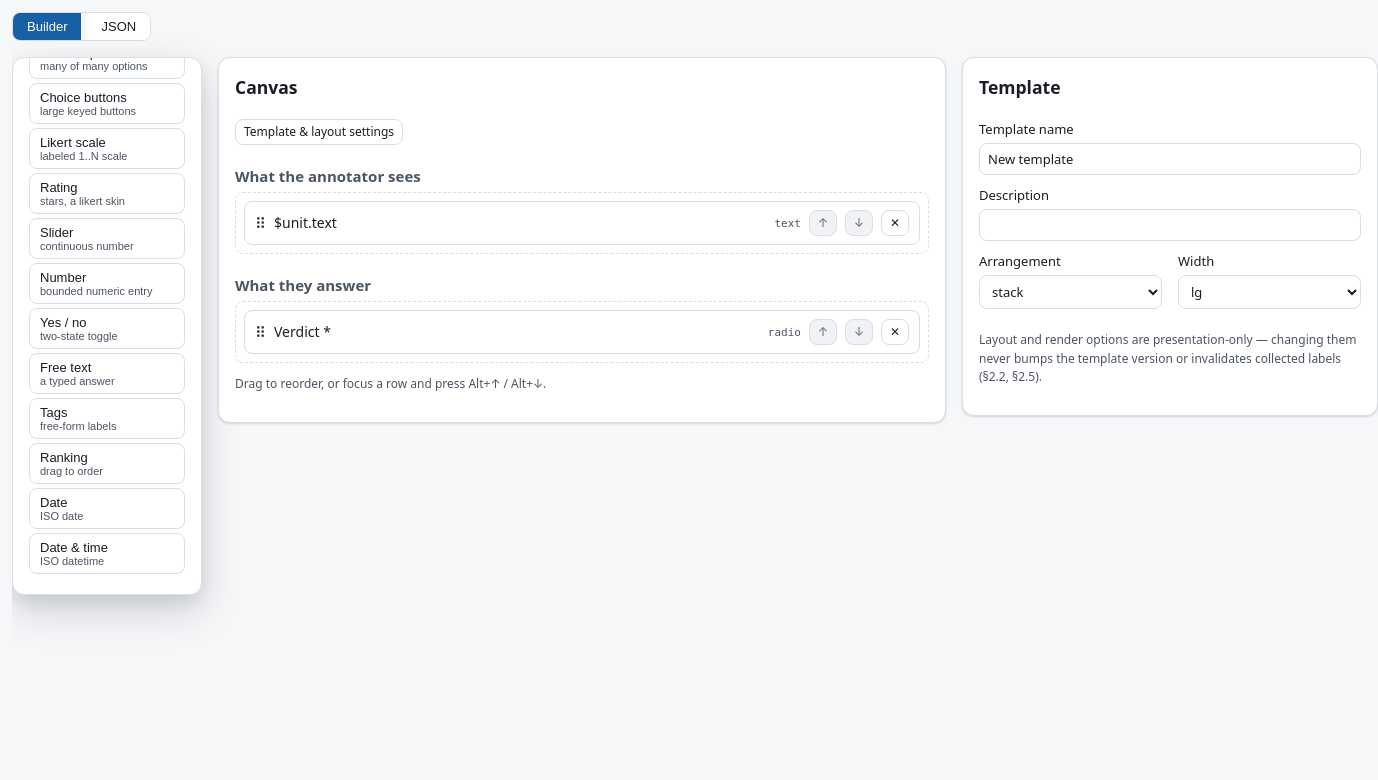
Test case: drag-and-drop reordering › cannot move the first row up or the last row down
(page scrolled)
Click the button with test id "palette-tags" at (107, 419), box [29,398,185,439]
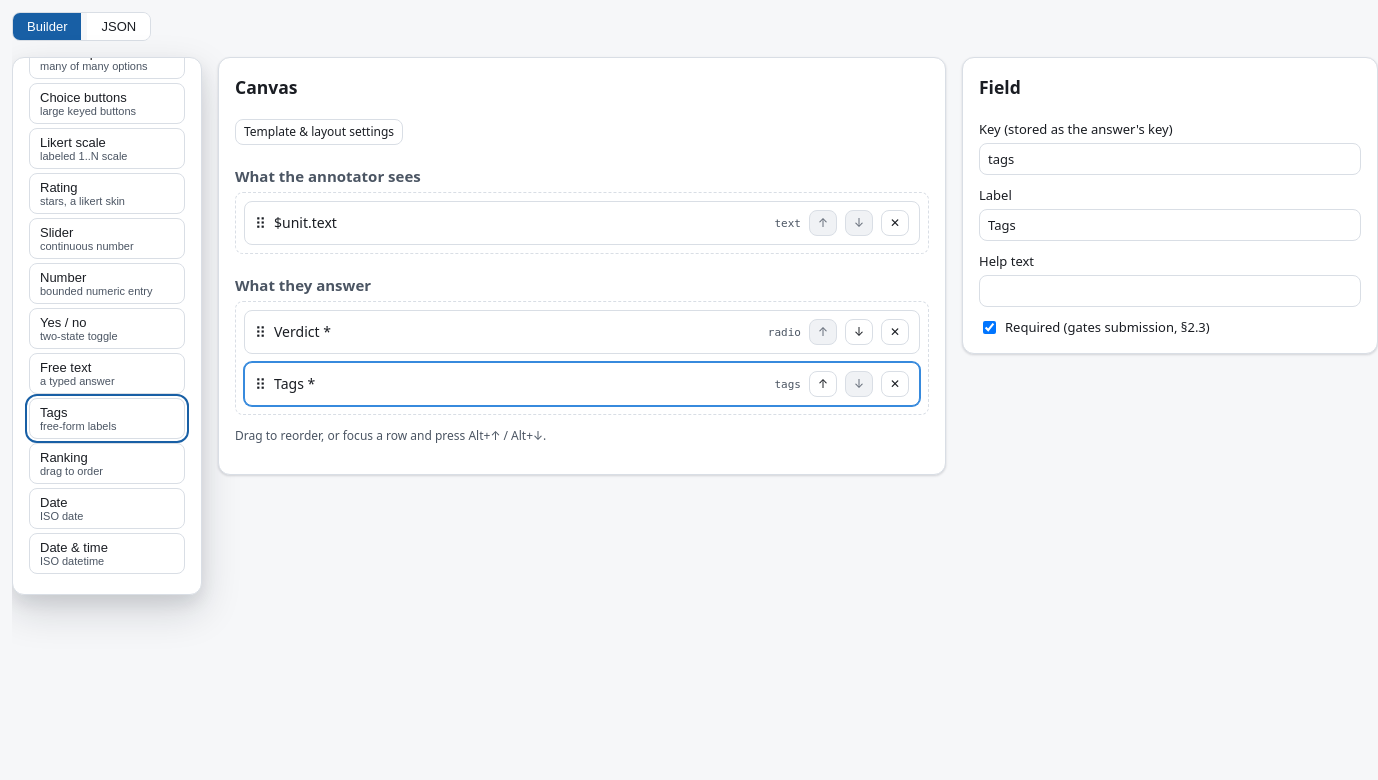
Expected: the button with test id "canvas-inputs-up-0" is disabled, [809,319,837,345]
Expected: the button with test id "canvas-inputs-down-1" is disabled, [845,371,873,397]
